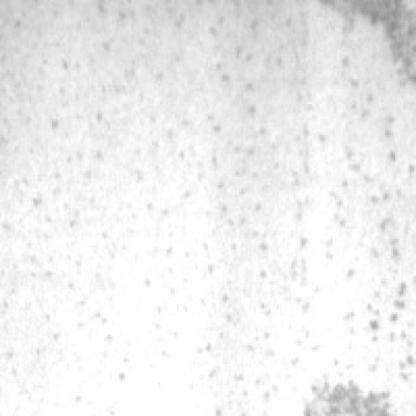pitted_surface: (9, 19, 148, 395), (181, 6, 304, 416), (333, 100, 412, 383), (322, 5, 414, 90), (297, 376, 393, 416)
